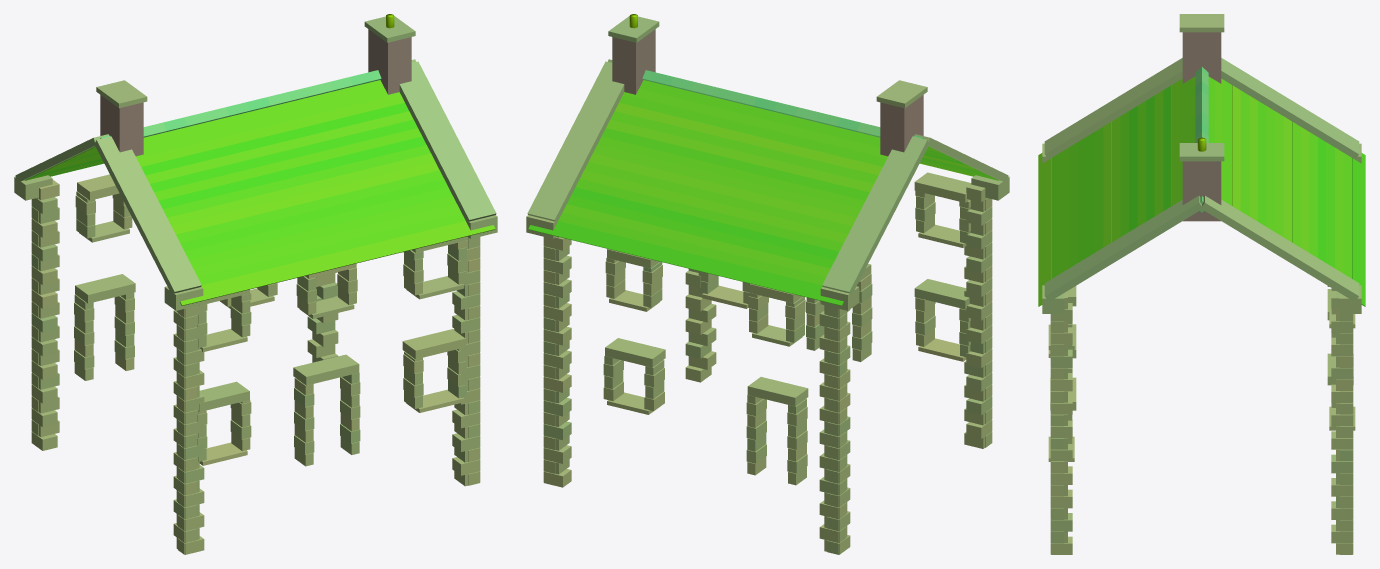
File: SM_Bld_212_Stone.glb
3 renders of one model, left to right at view 1: azimuth 30°, elevation 25°; view 2: azimuth 150°, elevation 25°; view 3: azimuth 270°, elevation 25°, orthographic.
Parts seen in each view (by area): view 1: SM_Bld_212_Stone; view 2: SM_Bld_212_Stone; view 3: SM_Bld_212_Stone.
Part boxes in pixels (x1,y1,x2,y2): SM_Bld_212_Stone: (14,14,497,554); SM_Bld_212_Stone: (526,14,1009,554); SM_Bld_212_Stone: (1038,14,1365,554).
Size of the model in its own units: 8.53 by 10.5 by 7.62.
